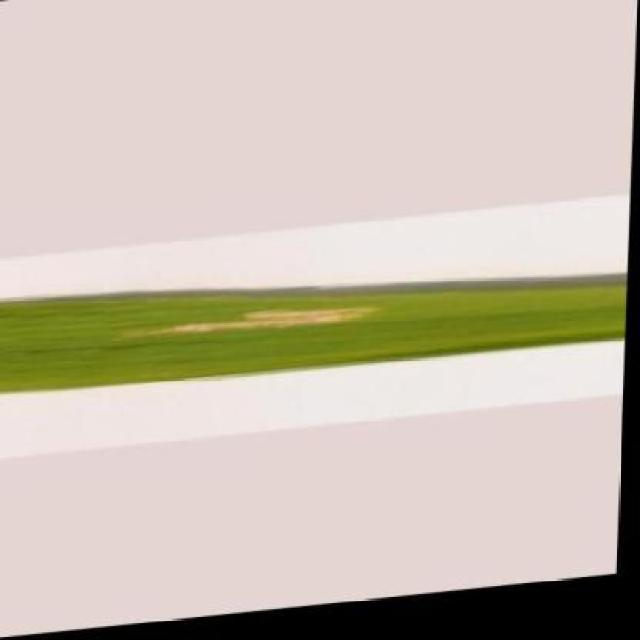Brown_Spot: (0, 245, 631, 404)
